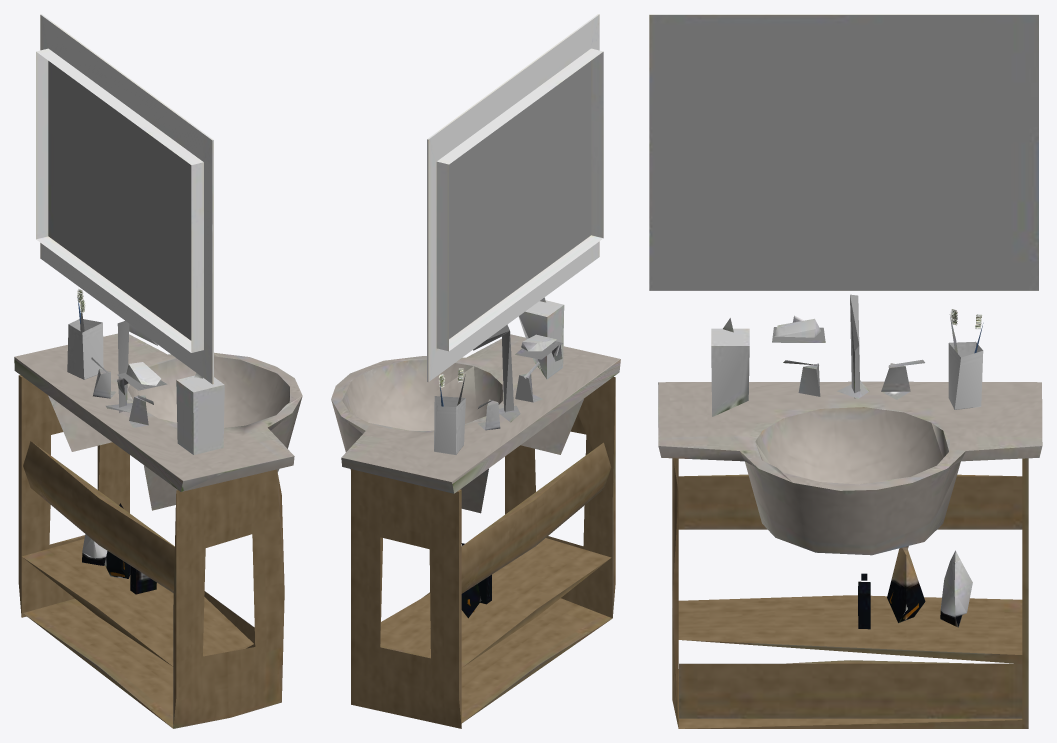
The model's file is Wallwash0004.obj.
3 views of the same model, side by side, from view 1: azimuth 30°, elevation 25°; view 2: azimuth 150°, elevation 25°; view 3: azimuth 270°, elevation 25° (orthographic). The views are drawn at different scales.
Bounding box in the file's own units: 0.511 × 1.5 × 0.796.
1 material, 1 textured.
